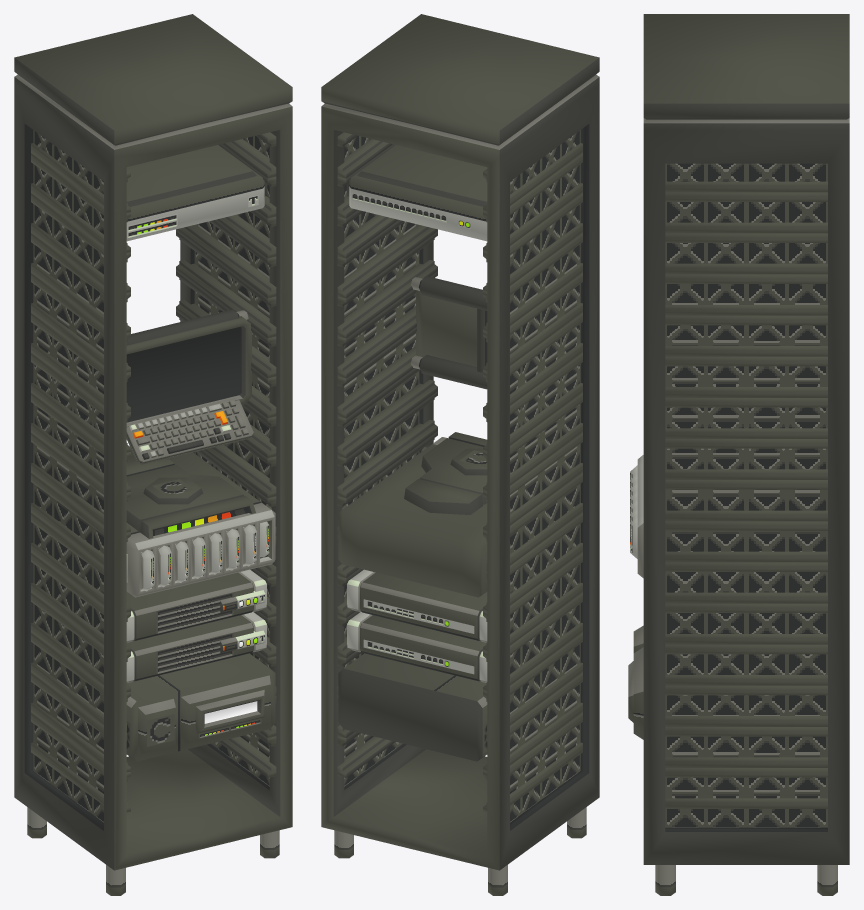
File: rack-off.glb
3 views of the same model, side by side, from view 1: azimuth 30°, elevation 25°; view 2: azimuth 150°, elevation 25°; view 3: azimuth 270°, elevation 25° (orthographic). The views are drawn at different scales.
Visible parts, largest first — view 1: Plane.045, Plane.047, Plane.033, Plane.075, Plane (×2), Plane.062, Plane.070, Plane.069, Plane.048, Plane.049, Plane.046, Plane.051 (×2) (+1 smaller); view 2: Plane.045, Plane.047, Plane.069, Plane.033, Plane (×2), Plane.062, Plane.075, Plane.070, Plane.046, Plane.063; view 3: Plane.045, Plane.047, Plane.033, Plane.046, Plane.069.
Part boxes in pixels (box(x1,y1,x2,y2)): Plane.045: box(14, 14, 292, 870); Plane.047: box(31, 132, 276, 812); Plane.033: box(126, 653, 275, 761); Plane.075: box(126, 309, 251, 427); Plane (×2): box(126, 569, 266, 682); Plane.062: box(126, 145, 267, 241); Plane.070: box(126, 455, 255, 538); Plane.069: box(126, 449, 275, 597); Plane.048: box(129, 400, 248, 459); Plane.049: box(126, 397, 253, 464); Plane.046: box(27, 807, 279, 895); Plane.051 (×2): box(220, 590, 265, 653); Plane.045: box(321, 14, 599, 870); Plane.047: box(337, 132, 582, 812); Plane.069: box(338, 437, 487, 597); Plane.033: box(338, 653, 487, 761); Plane (×2): box(347, 569, 487, 682); Plane.062: box(346, 145, 487, 241); Plane.075: box(410, 276, 487, 389); Plane.070: box(404, 432, 487, 514); Plane.046: box(334, 807, 586, 895); Plane.063: box(352, 193, 470, 228); Plane.045: box(643, 14, 849, 864); Plane.047: box(665, 181, 827, 808); Plane.033: box(628, 625, 643, 739); Plane.046: box(655, 865, 837, 895); Plane.069: box(637, 455, 643, 578).
Bounding box in the file's own units: 0.2195 × 0.9082 × 0.229.
1 material, 1 textured.
